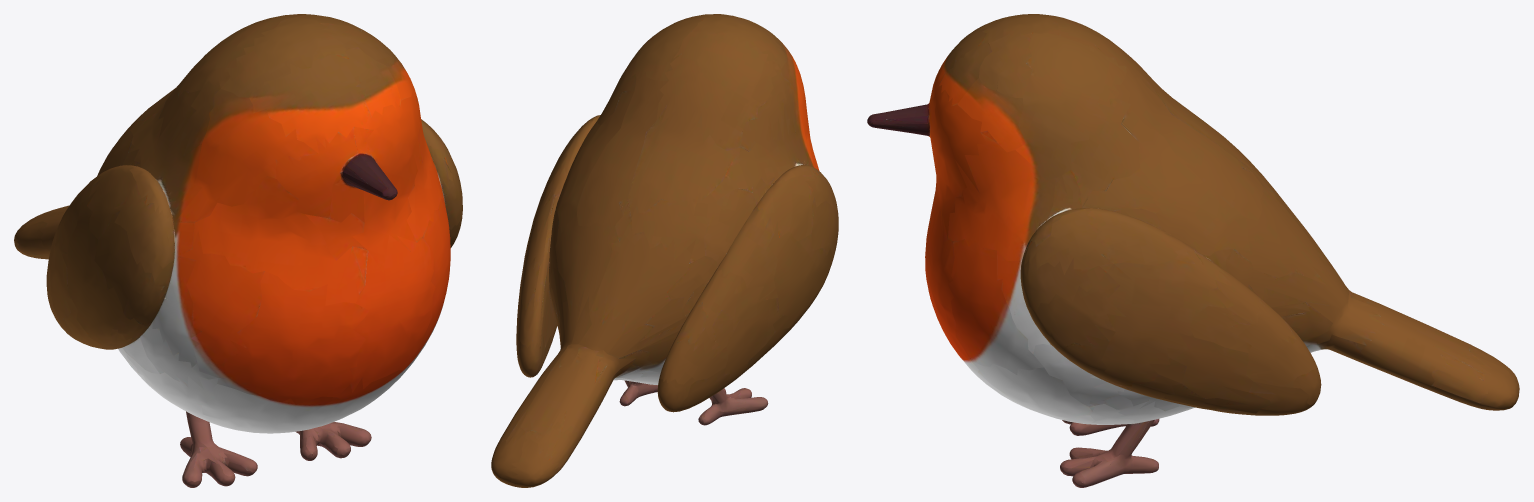
The model's file is roodborst.glb.
3 views of the same model, side by side, from view 1: azimuth 30°, elevation 25°; view 2: azimuth 150°, elevation 25°; view 3: azimuth 270°, elevation 25° (orthographic). The views are drawn at different scales.
Visible parts, largest first — view 1: Mesh_0; view 2: Mesh_0; view 3: Mesh_0.
Boxes of the visible parts, x1,y1,x2,y2 form: Mesh_0: [14, 14, 462, 487]; Mesh_0: [491, 14, 838, 487]; Mesh_0: [867, 14, 1519, 487].
Bounding box in the file's own units: 1.06 × 1.37 × 1.9.
1 material, 1 textured.
